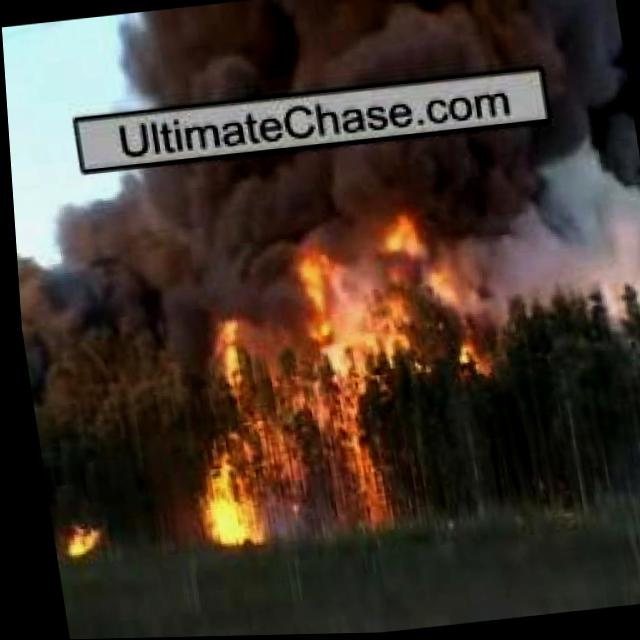helmet: (271, 211, 482, 543), (178, 413, 263, 553), (203, 313, 251, 416), (59, 522, 92, 560)
no_helmet: (40, 113, 640, 277), (106, 0, 626, 117), (13, 252, 297, 381), (443, 211, 640, 334)
